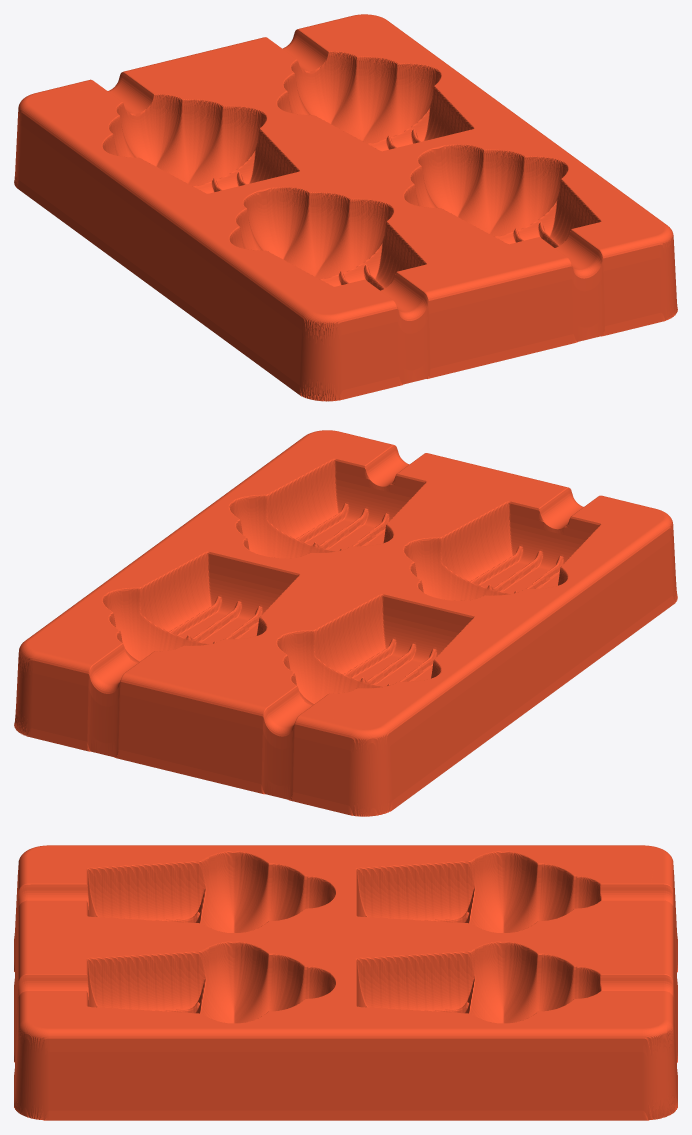
File: mold.glb
3 views of the same model, one above another, from view 1: azimuth 30°, elevation 25°; view 2: azimuth 150°, elevation 25°; view 3: azimuth 270°, elevation 25° (orthographic). The views are drawn at different scales.
Visible parts, largest first — view 1: geometry_0; view 2: geometry_0; view 3: geometry_0.
Boxes of the visible parts, left/top/right/bottom form: geometry_0: left=14, top=14, right=677, bottom=401; geometry_0: left=14, top=430, right=677, bottom=816; geometry_0: left=14, top=845, right=677, bottom=1120.
Bounding box in the file's own units: 0.1182 × 0.0245 × 0.171.
